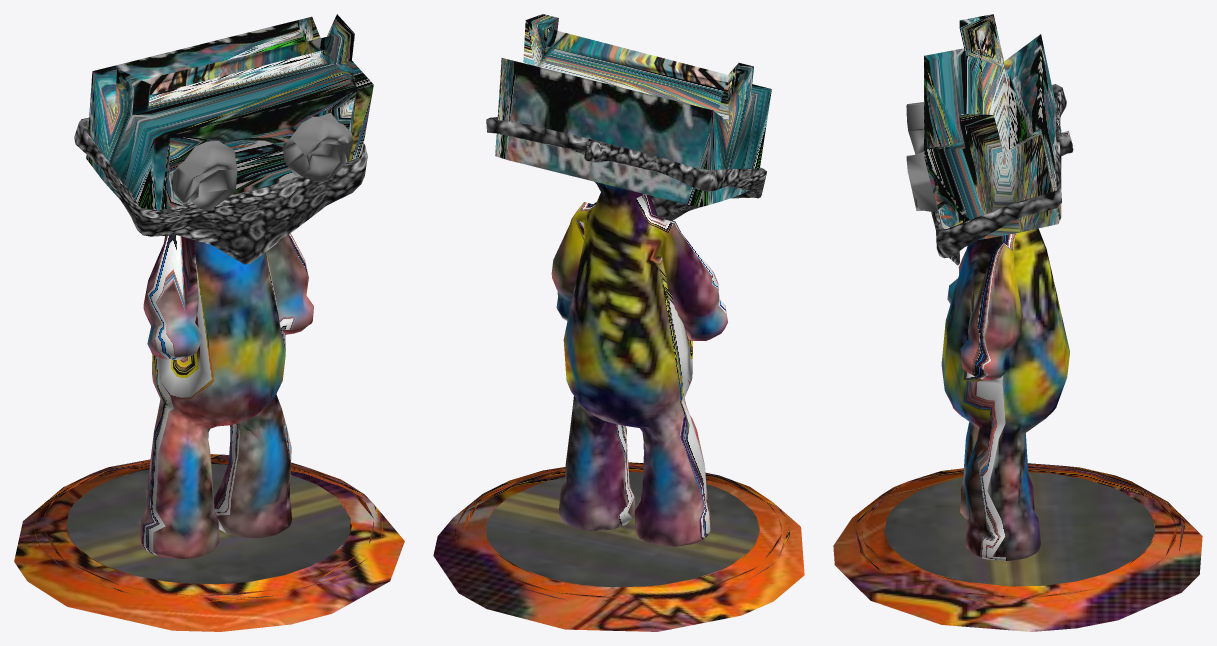
3 views of the same model, side by side, from view 1: azimuth 30°, elevation 25°; view 2: azimuth 150°, elevation 25°; view 3: azimuth 270°, elevation 25° (orthographic). The views are drawn at different scales.
Size of the model in its own units: 1.44 by 2.09 by 1.43.
6 materials, 5 textured.
